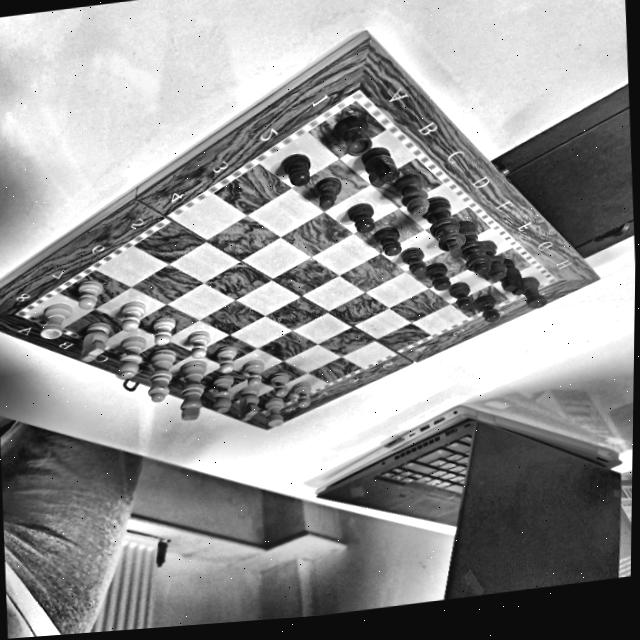black-bishop: (392, 170, 434, 217), (485, 235, 510, 283)
black-king: (424, 190, 466, 261)
black-knight: (361, 143, 400, 192), (498, 254, 526, 299)
black-pawn: (280, 150, 314, 190), (469, 291, 504, 328), (343, 199, 377, 234), (371, 224, 406, 258), (313, 174, 342, 214), (398, 244, 429, 277), (446, 279, 475, 313), (424, 260, 454, 292)
black-queen: (456, 213, 496, 276)
black-rook: (337, 114, 371, 160), (521, 274, 549, 316)
white-bishop: (115, 333, 149, 381), (210, 372, 237, 414)
white-king: (175, 360, 211, 423)
white-knight: (75, 317, 116, 366), (235, 384, 262, 421)
white-pawn: (71, 276, 108, 311), (113, 299, 150, 333), (149, 315, 179, 345), (186, 329, 212, 358), (215, 343, 239, 374), (241, 360, 268, 386), (268, 371, 289, 398), (294, 382, 313, 408)
white-queen: (142, 343, 180, 406)
white-rook: (35, 298, 76, 347), (260, 395, 286, 429)
